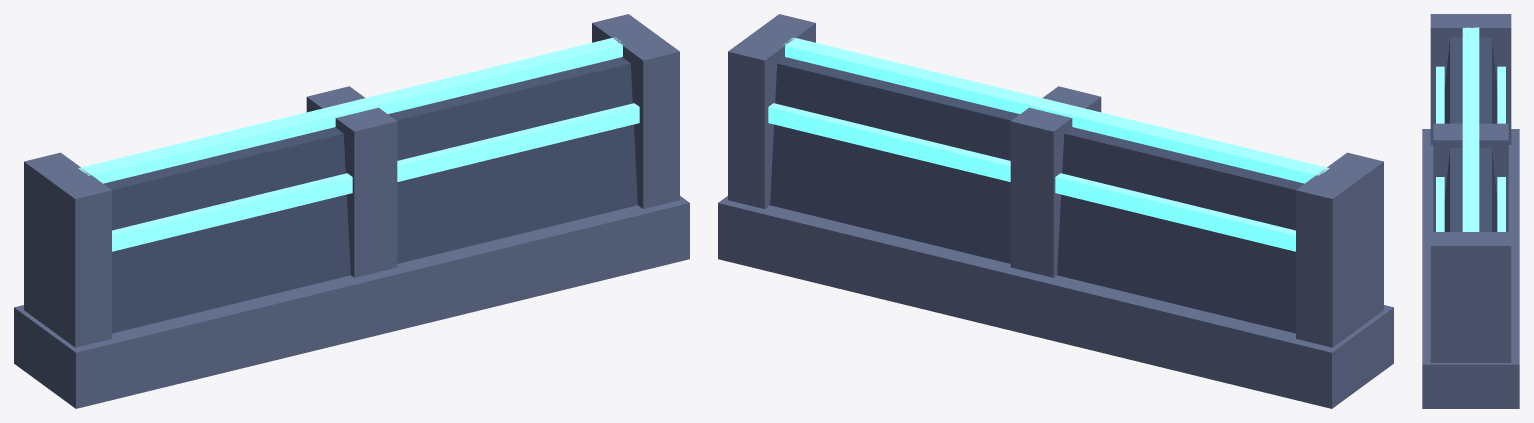
Rendered from BlenderModel.glb.
The picture shows the model from 3 angles, left to right: view 1: azimuth 30°, elevation 25°; view 2: azimuth 150°, elevation 25°; view 3: azimuth 270°, elevation 25°; orthographic projection. The views are drawn at different scales.
Visible parts, largest first — view 1: EnvBarrier; view 2: EnvBarrier; view 3: EnvBarrier.
Boxes of the visible parts, <box> form: EnvBarrier: <box>14,14,689,408</box>; EnvBarrier: <box>718,14,1393,408</box>; EnvBarrier: <box>1422,14,1519,408</box>.
Size of the model in its own units: 4 by 1.27 by 0.7.
